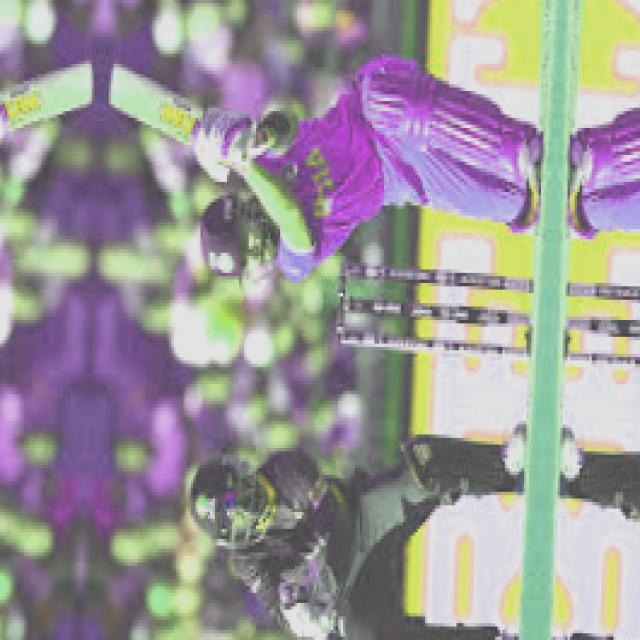toe: (102, 58, 146, 117)
